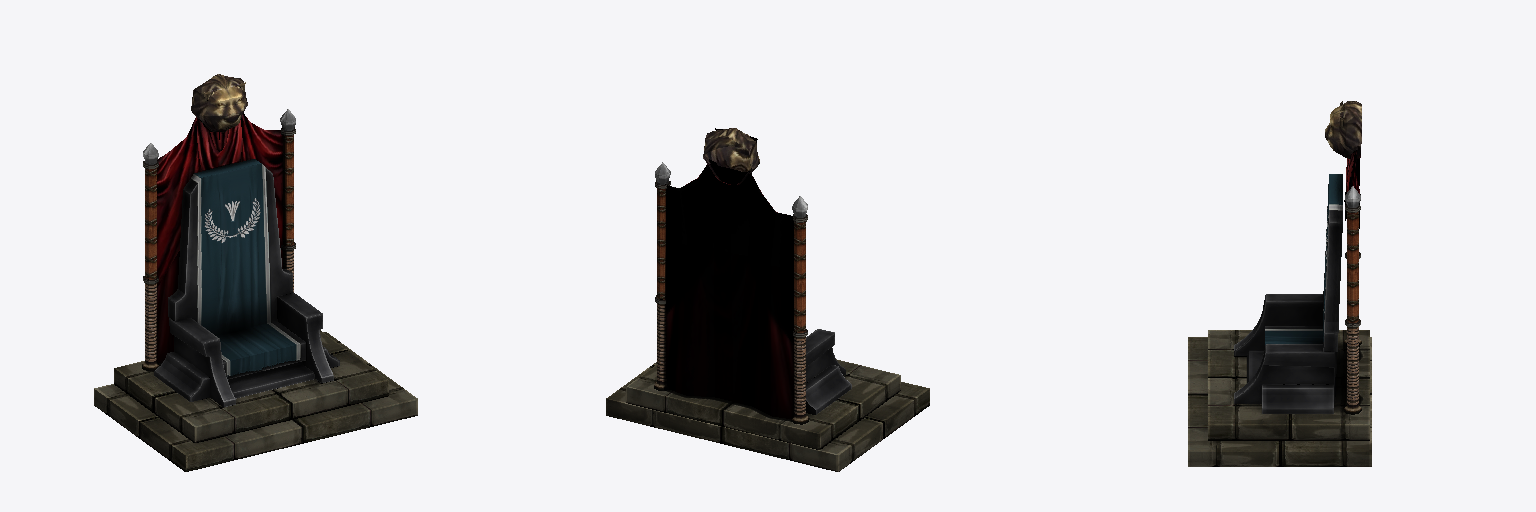
3 renders of one model, left to right at view 1: azimuth 30°, elevation 25°; view 2: azimuth 150°, elevation 25°; view 3: azimuth 270°, elevation 25°, orthographic.
Parts seen in each view (by area): view 1: Throne; view 2: Throne; view 3: Throne.
Boxes of the visible parts, box(x1,y1,x2,y2) form: Throne: box(94, 74, 417, 471); Throne: box(606, 128, 929, 471); Throne: box(1188, 101, 1371, 466).
Bounding box in the file's own units: 5.37 × 6.83 × 3.66.
Materials: 1 (1 with a texture image).